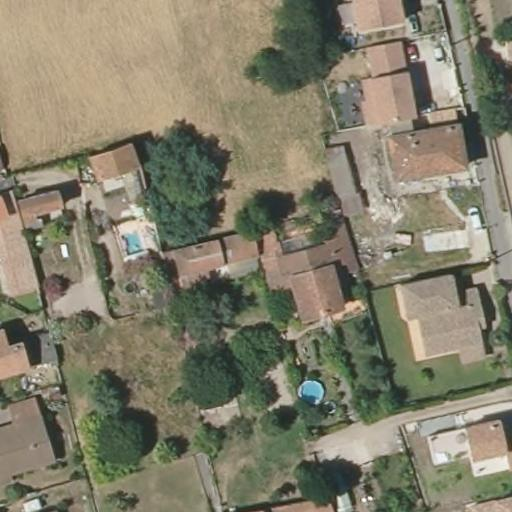pool: (294, 376, 328, 404), (119, 229, 148, 257)
